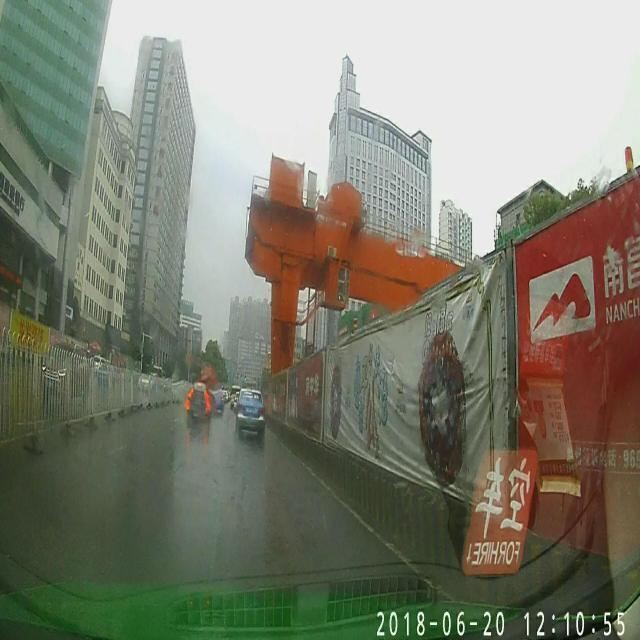car: (40, 342, 90, 400), (232, 386, 266, 436), (183, 383, 210, 419), (212, 389, 225, 412)
